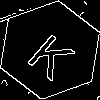K: (25, 25, 83, 82)
